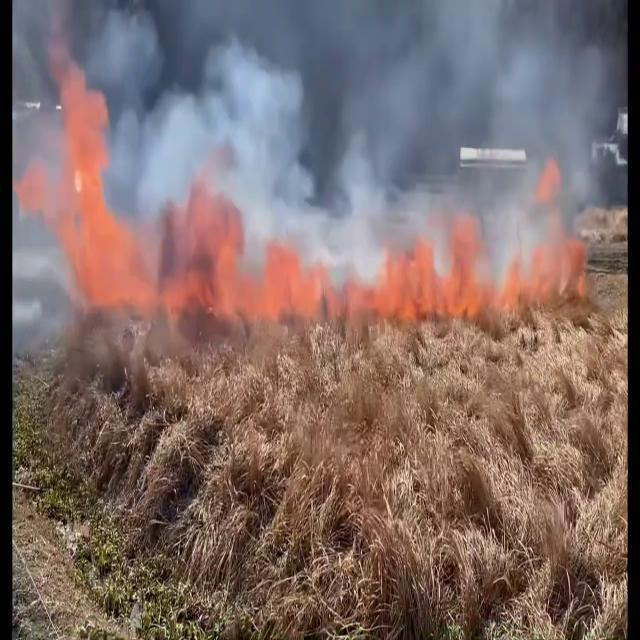Fire: (54, 76, 332, 344), (368, 194, 492, 329)
Smoke: (336, 0, 630, 251), (115, 0, 382, 266)
